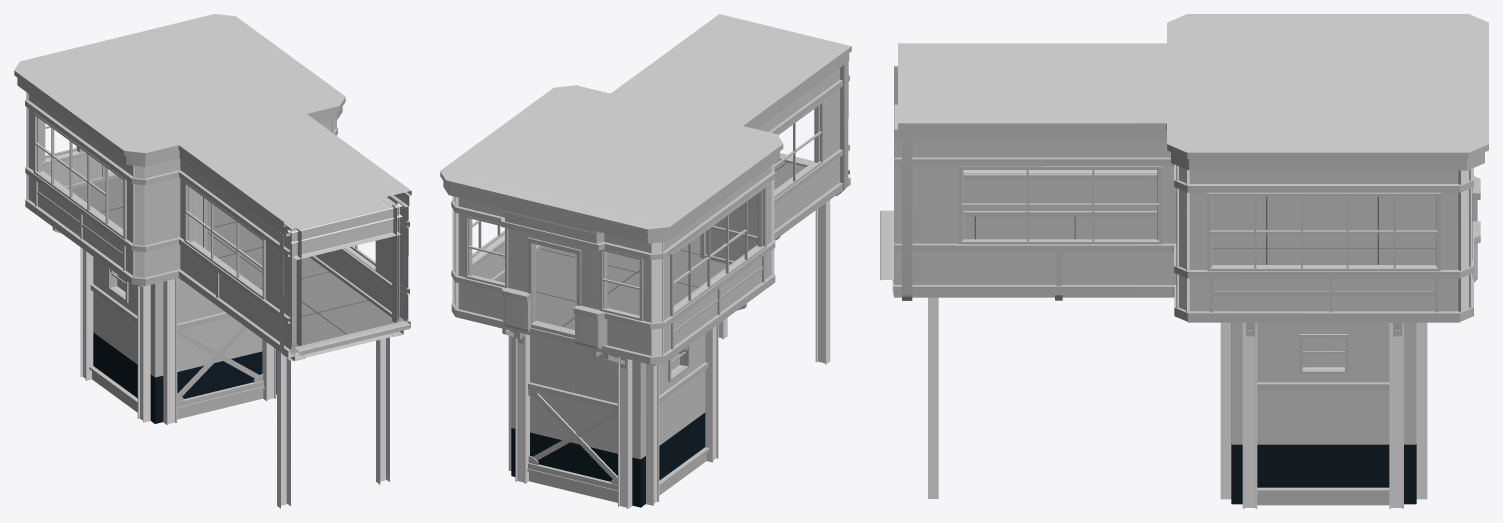
File: SM_H_Building_Tide_Corridor_02F_ATLAS.fbx
3 views of the same model, side by side, from view 1: azimuth 30°, elevation 25°; view 2: azimuth 150°, elevation 25°; view 3: azimuth 270°, elevation 25° (orthographic). The views are drawn at different scales.
Parts seen in each view (by area): view 1: SM_H_Building_Tide_Corridor_02F_ATLAS; view 2: SM_H_Building_Tide_Corridor_02F_ATLAS; view 3: SM_H_Building_Tide_Corridor_02F_ATLAS.
Boxes of the visible parts, <box> form: SM_H_Building_Tide_Corridor_02F_ATLAS: <box>14,14,411,508</box>; SM_H_Building_Tide_Corridor_02F_ATLAS: <box>440,14,851,508</box>; SM_H_Building_Tide_Corridor_02F_ATLAS: <box>880,14,1488,508</box>.
Bounding box in the file's own units: 691 × 1281 × 887.
